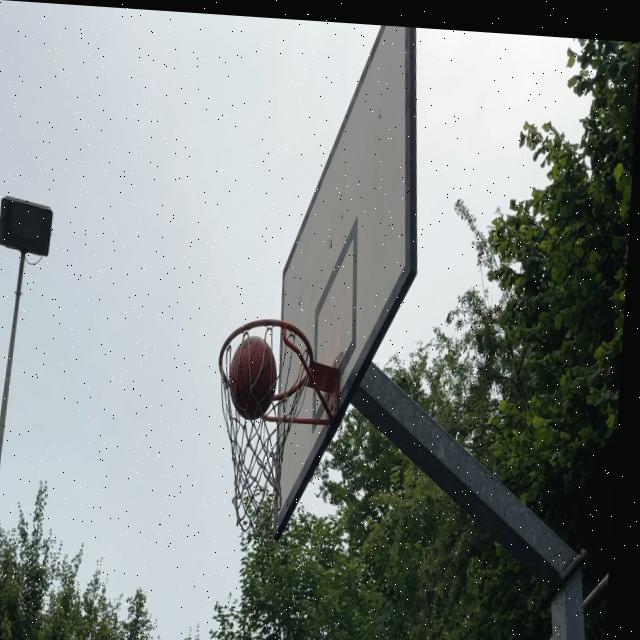Goal: (228, 336, 278, 421)
